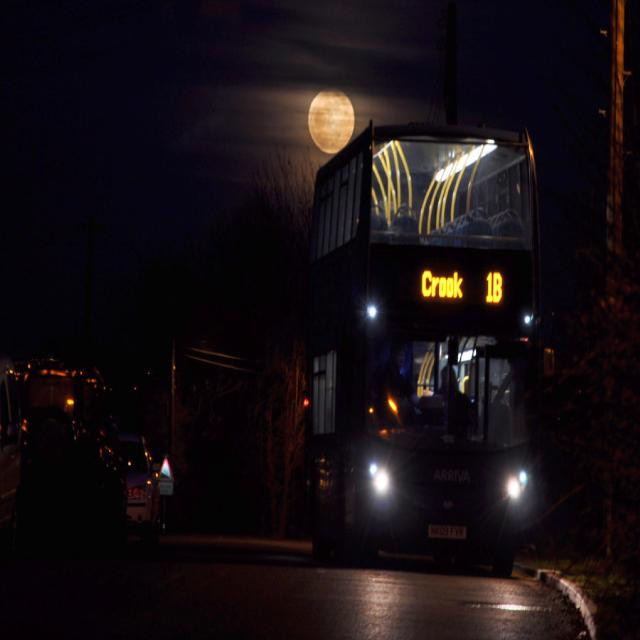Bus: (297, 37, 569, 595)
car: (31, 345, 134, 570), (112, 384, 171, 561), (0, 336, 21, 548)
